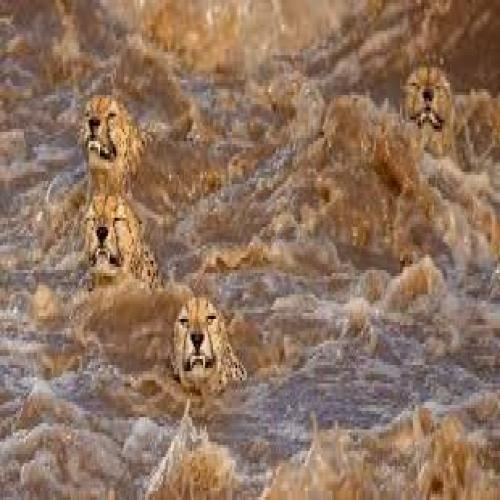cheetah-endangered: (167, 291, 246, 394), (83, 194, 160, 284), (80, 84, 141, 192), (402, 65, 455, 167)
